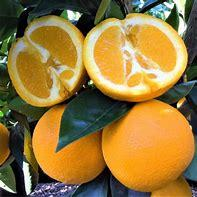orange: (98, 97, 196, 184), (2, 13, 84, 108), (83, 18, 182, 93), (25, 98, 107, 184)
